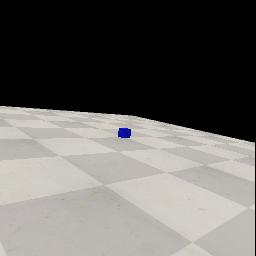box: (118, 128, 131, 138)
